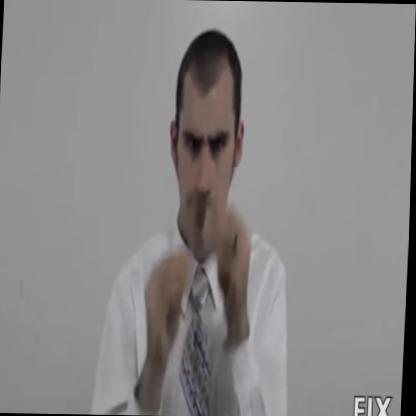Fix: (137, 194, 258, 376)
